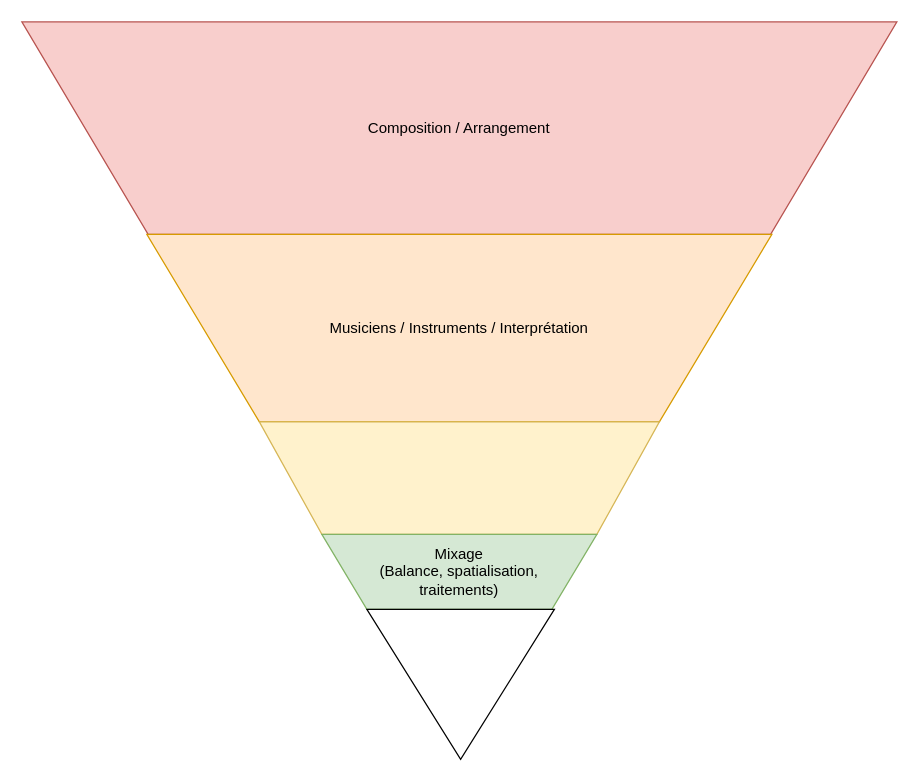
This 919x781 diagram has some shape labels left out. Here are the shapes that lost their labels. From the top down, the box of each, then its label:
(258, 421, 659, 534): Enregistrement (Microphones, placement, confort de session)
(366, 608, 554, 759): Mastering
